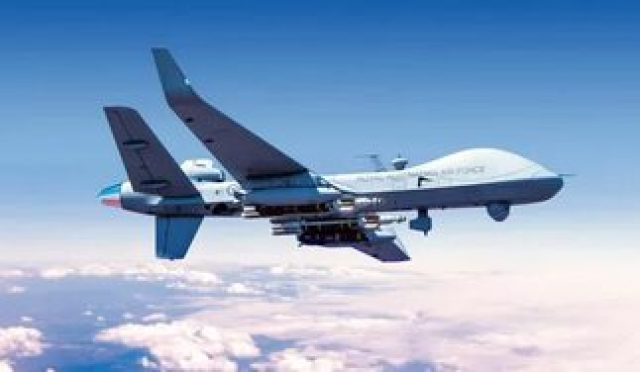military drone: (96, 46, 577, 261)
